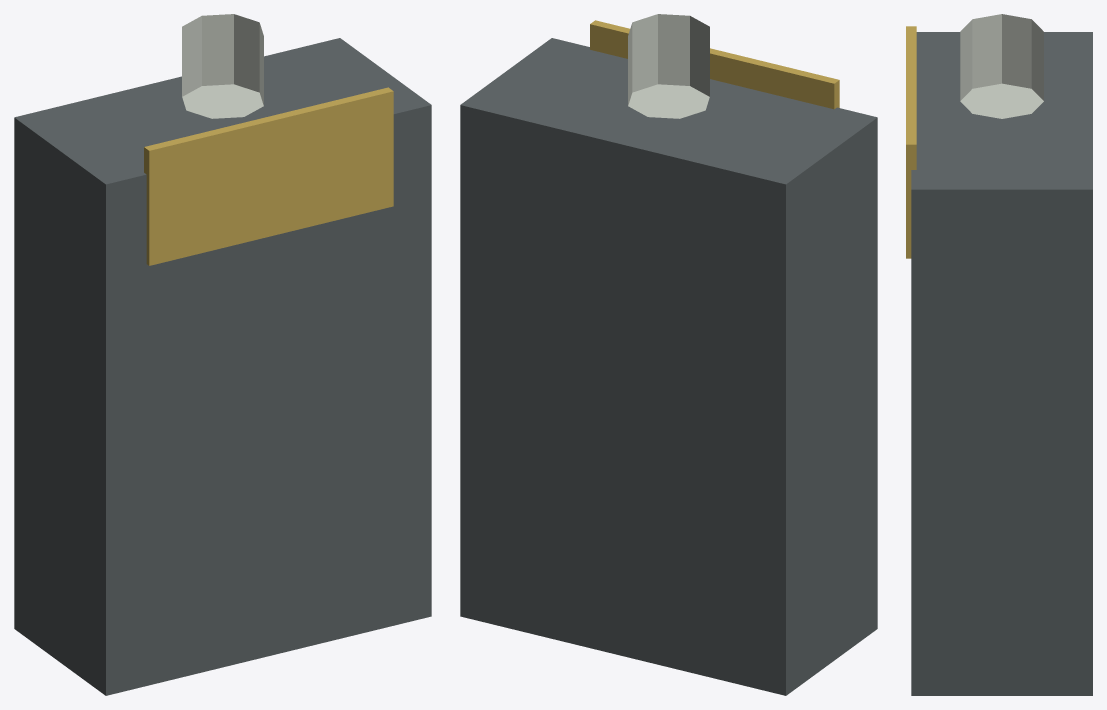
File: party_stuff.glb
3 views of the same model, side by side, from view 1: azimuth 30°, elevation 25°; view 2: azimuth 150°, elevation 25°; view 3: azimuth 270°, elevation 25° (orthographic).
Bounding box in the file's own units: 0.64 × 1.11 × 0.321.
1 material, 1 textured.
